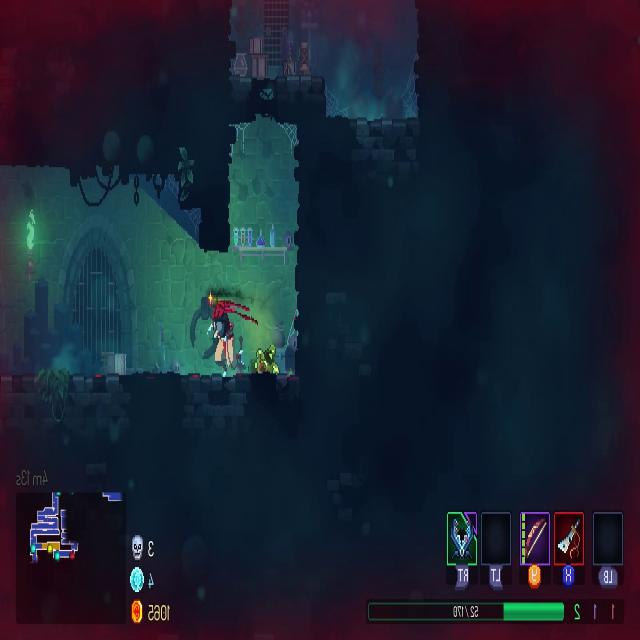agents: (206, 290, 237, 377)
